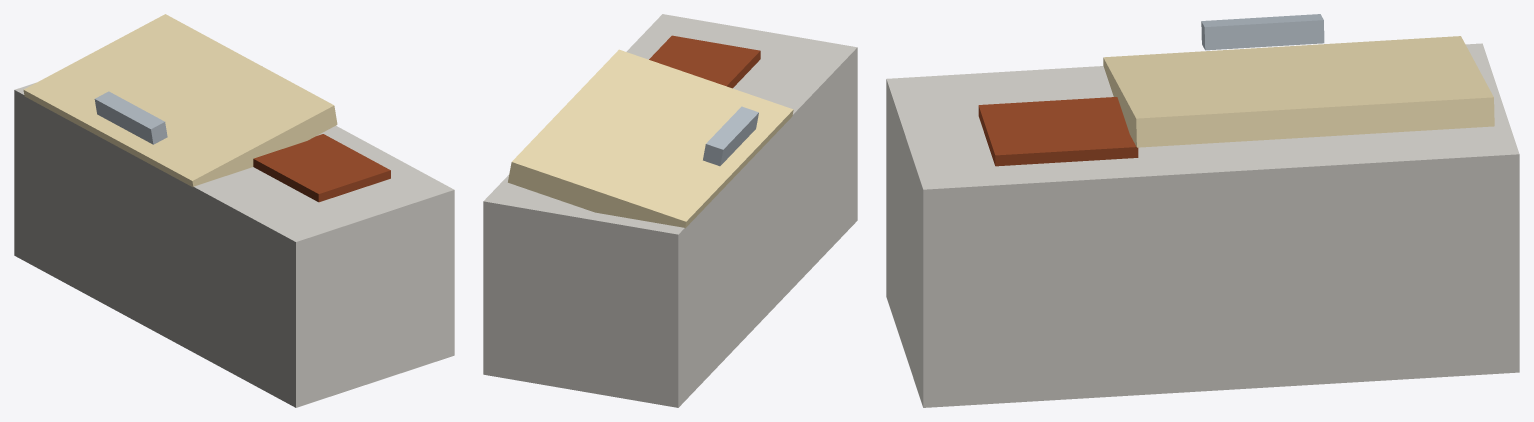
The model's file is geladeira_velha.glb.
3 renders of one model, left to right at view 1: azimuth 30°, elevation 25°; view 2: azimuth 150°, elevation 25°; view 3: azimuth 270°, elevation 25°, orthographic. The views are drawn at different scales.
Parts seen in each view (by area): view 1: corpo; view 2: corpo; view 3: corpo.
Boxes of the visible parts, bbox=[...] form: corpo: bbox=[14, 14, 454, 407]; corpo: bbox=[483, 14, 857, 407]; corpo: bbox=[886, 14, 1519, 407].
Size of the model in its own units: 0.2874 by 0.242 by 0.5258.
